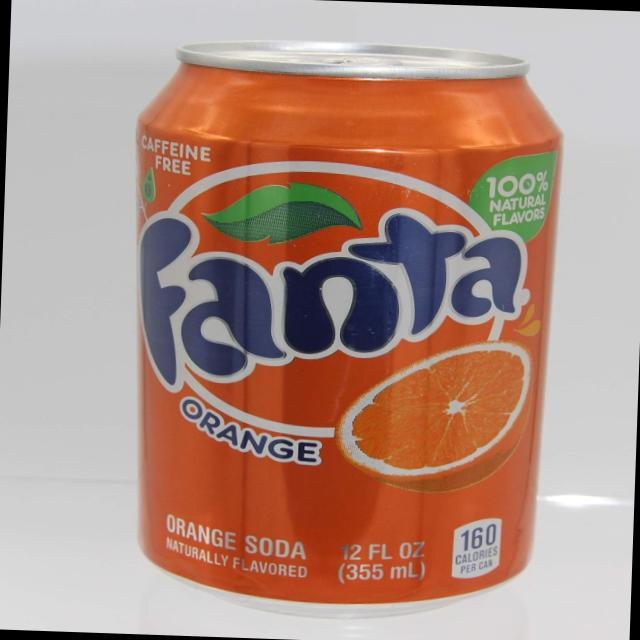fanta: (118, 25, 562, 612)
